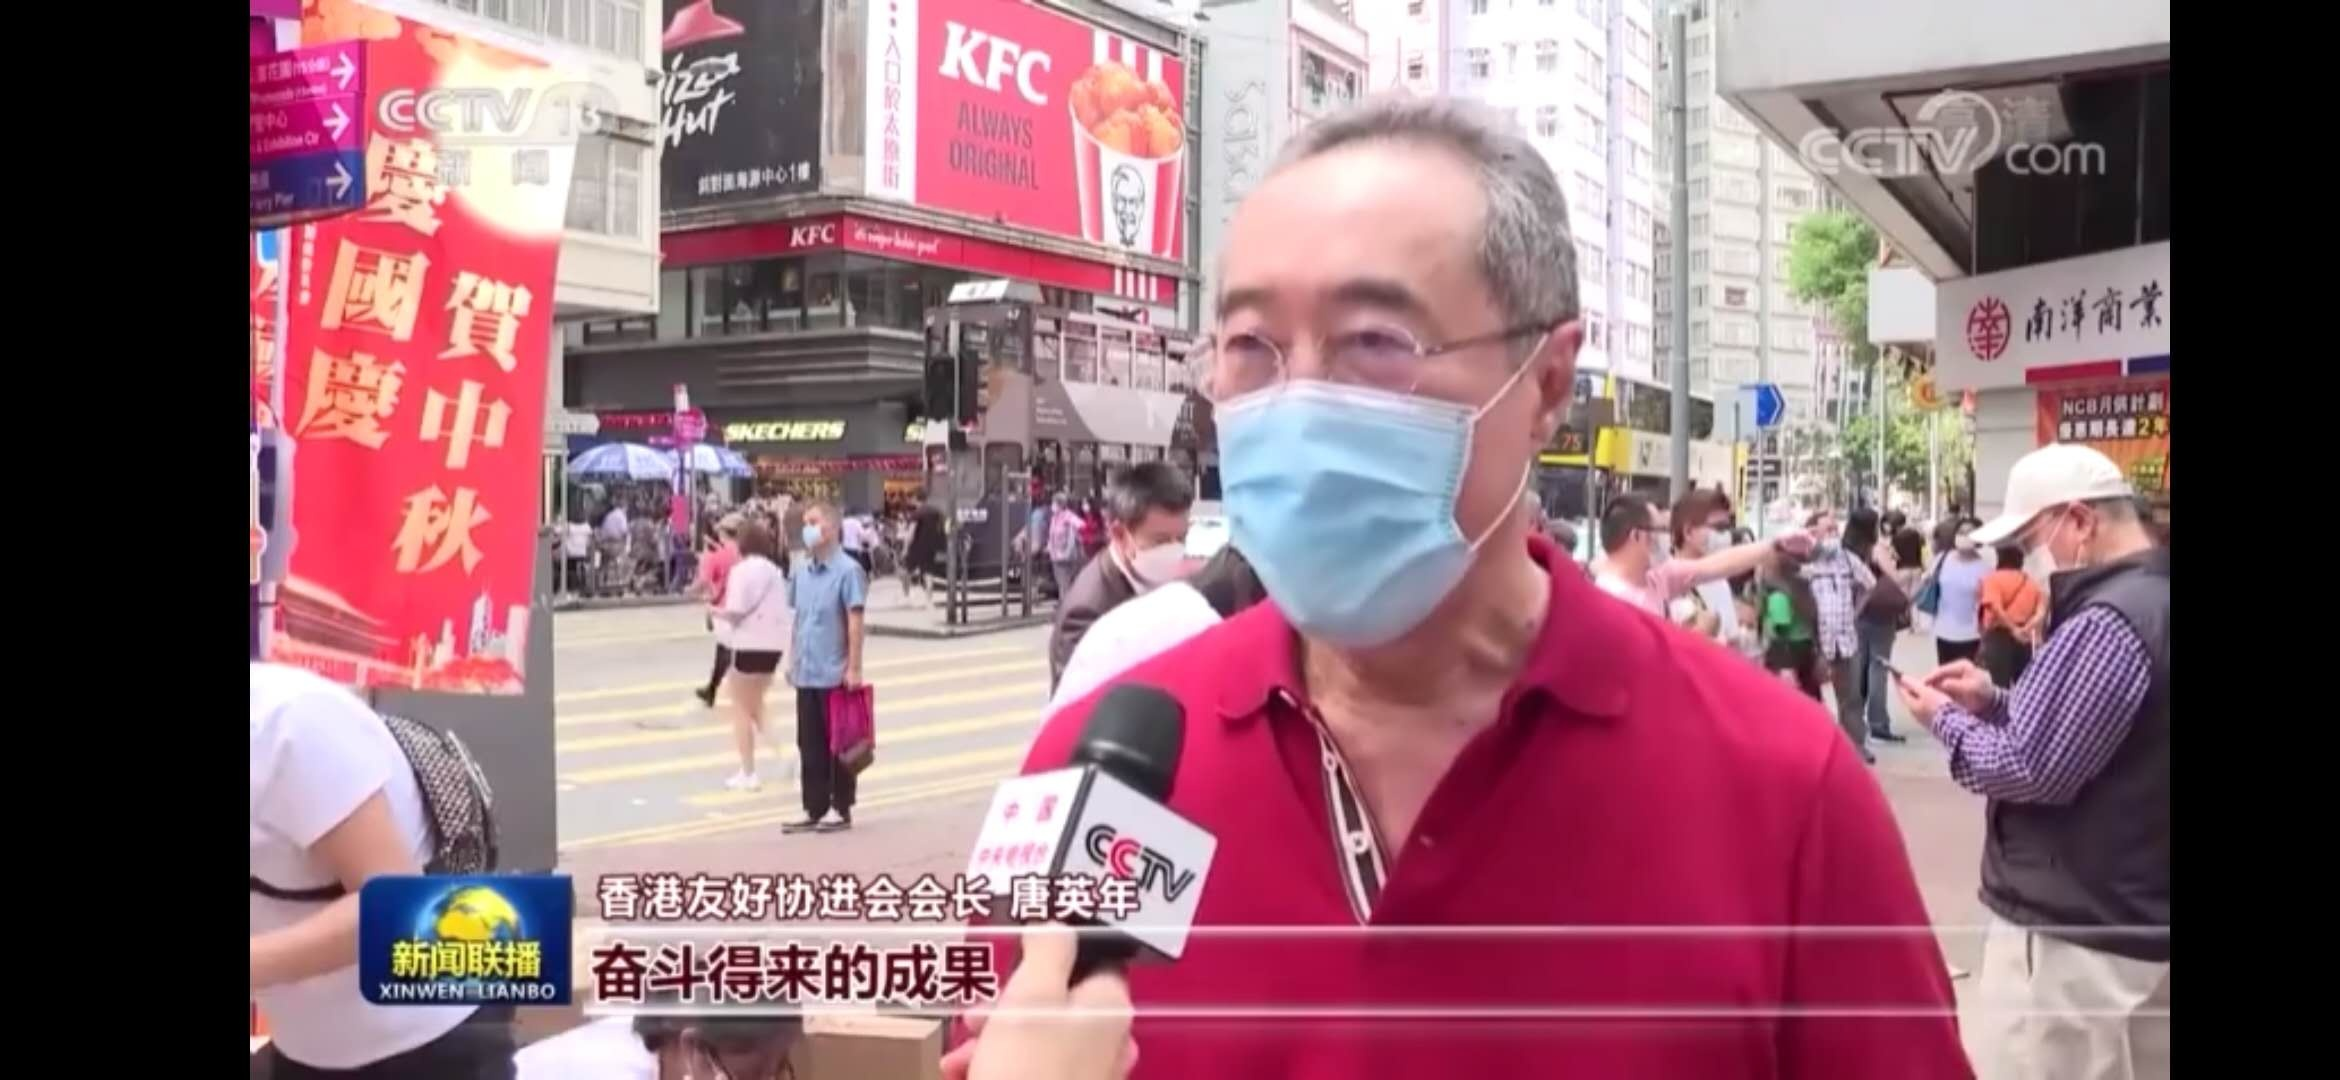correctlyWear: (1189, 234, 1582, 649), (1106, 486, 1188, 580), (2018, 503, 2095, 600), (1680, 503, 1733, 556), (1630, 513, 1668, 568), (798, 507, 833, 553), (1953, 524, 1979, 550)
incorrectlyWear: (1812, 524, 1840, 559)
